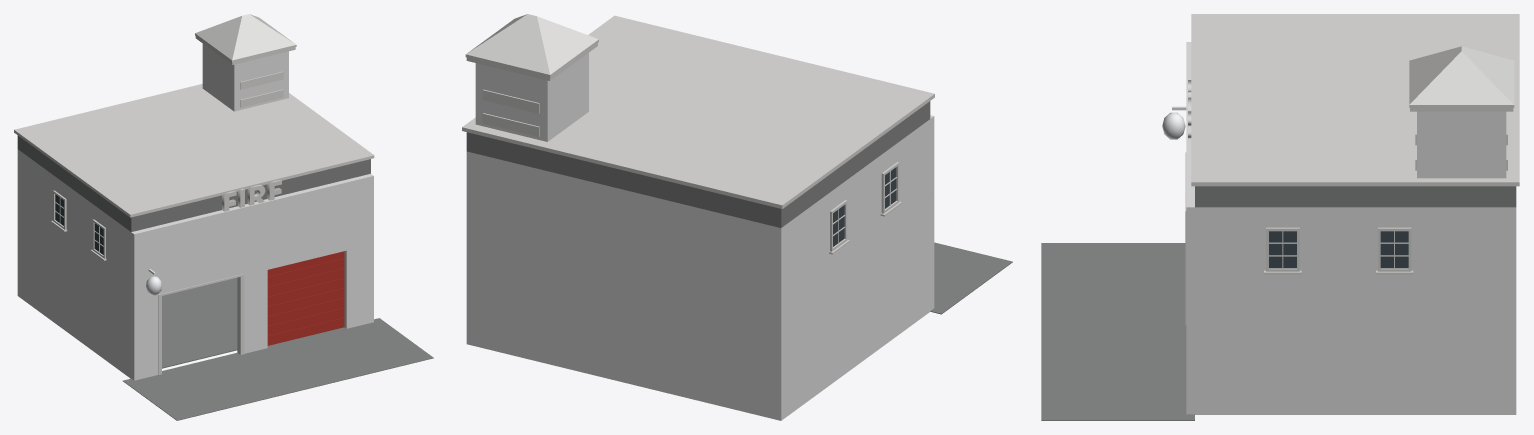
Rendered from city_firehouse.fbx.
The picture shows the model from 3 angles, left to right: view 1: azimuth 30°, elevation 25°; view 2: azimuth 150°, elevation 25°; view 3: azimuth 270°, elevation 25°; orthographic projection. The views are drawn at different scales.
Visible parts, largest first — view 1: brick_1, trim_1, concrete_1, red_1, glass_1; view 2: brick_1, trim_1, concrete_1, glass_1; view 3: brick_1, trim_1, concrete_1, glass_1, chrome_1.
Part boxes in pixels (left/top/right/bottom): brick_1: left=17, top=44, right=373, bottom=380; trim_1: left=14, top=14, right=374, bottom=374; concrete_1: left=17, top=135, right=433, bottom=420; red_1: left=267, top=251, right=344, bottom=345; glass_1: left=55, top=194, right=103, bottom=254; brick_1: left=466, top=53, right=934, bottom=420; trim_1: left=462, top=14, right=934, bottom=254; concrete_1: left=466, top=101, right=1012, bottom=314; glass_1: left=833, top=167, right=896, bottom=246; brick_1: left=1186, top=42, right=1516, bottom=414; trim_1: left=1185, top=14, right=1519, bottom=324; concrete_1: left=1041, top=186, right=1516, bottom=420; glass_1: left=1269, top=231, right=1408, bottom=268; chrome_1: left=1162, top=106, right=1186, bottom=139.
Size of the model in its own units: 1.5 by 1.36 by 1.71.
